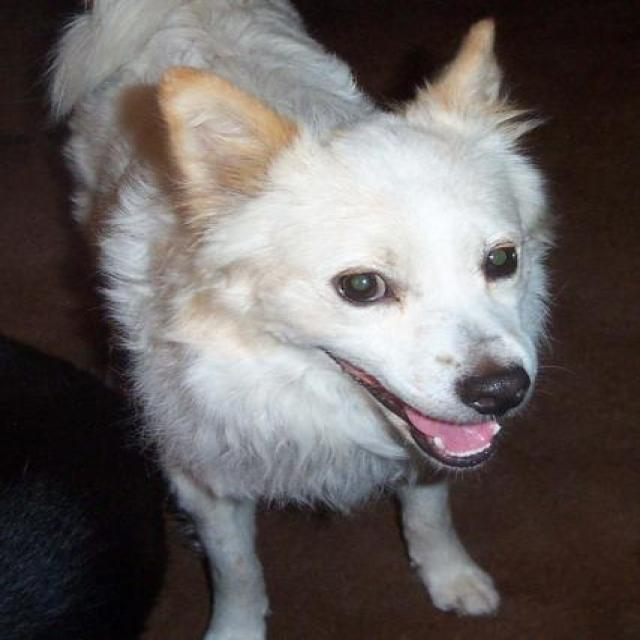Dogs: (42, 0, 562, 639)
